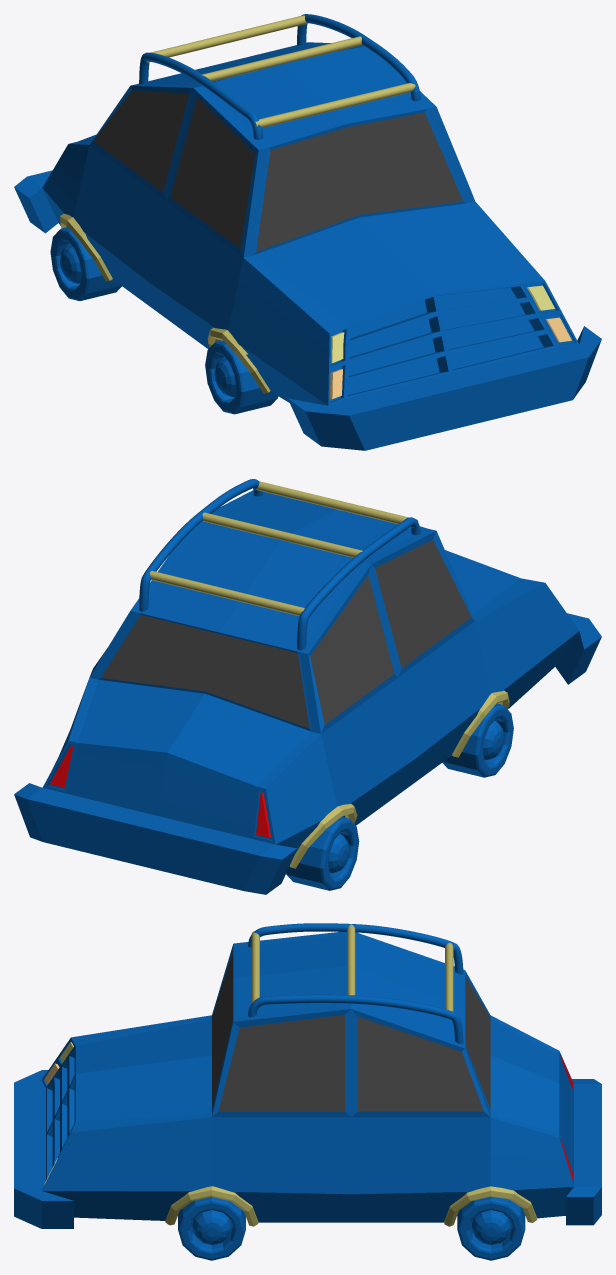
Rendered from car1.fbx.
The picture shows the model from 3 angles, top to bottom: view 1: azimuth 30°, elevation 25°; view 2: azimuth 150°, elevation 25°; view 3: azimuth 270°, elevation 25°; orthographic projection. The views are drawn at different scales.
Visible parts, largest first — view 1: CAR; view 2: CAR; view 3: CAR.
Part boxes in pixels (x1,y1,x2,y2): CAR: [14, 14, 601, 450]; CAR: [14, 479, 601, 894]; CAR: [14, 923, 601, 1260].
Size of the model in its own units: 222 by 192 by 422.
